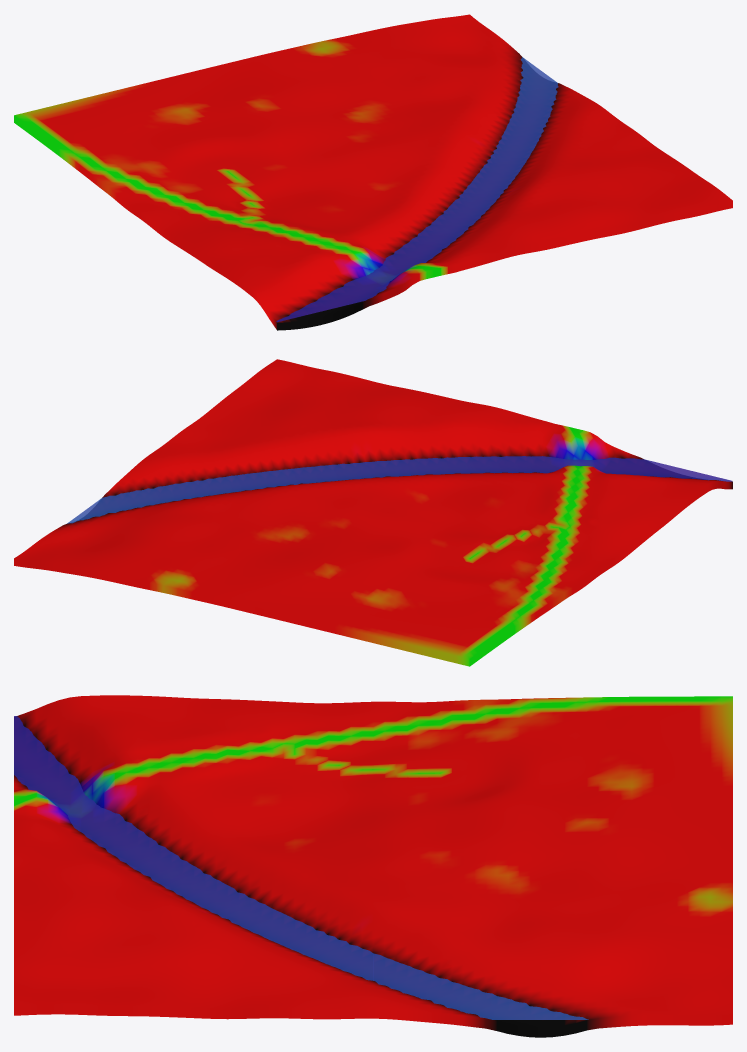
Rendered from chunk_4_5.glb.
3 renders of one model, top to bottom at view 1: azimuth 30°, elevation 25°; view 2: azimuth 150°, elevation 25°; view 3: azimuth 270°, elevation 25°, orthographic. The views are drawn at different scales.
Parts seen in each view (by area): view 1: LOD0, Water; view 2: LOD0, Water; view 3: LOD0, Water.
Boxes of the visible parts, x1=… form: LOD0: x1=14, y1=14, x2=732, y2=330; Water: x1=276, y1=57, x2=558, y2=322; LOD0: x1=14, y1=359, x2=732, y2=666; Water: x1=67, y1=456, x2=732, y2=523; LOD0: x1=14, y1=695, x2=732, y2=1037; Water: x1=14, y1=716, x2=588, y2=1019.
Size of what is drawn, in the model's own units: 256 by 16.17 by 256.
